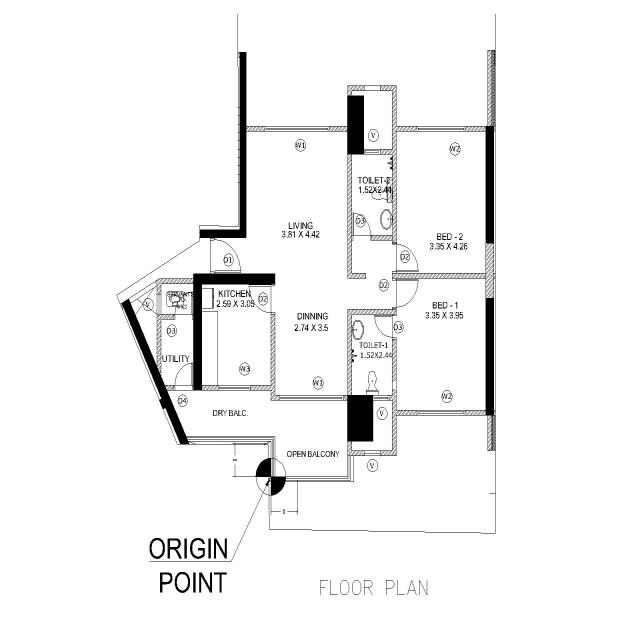Column: (119, 298, 190, 452), (484, 295, 497, 419), (346, 392, 375, 444), (192, 271, 204, 392), (198, 271, 277, 289), (345, 92, 367, 156), (485, 123, 496, 245)
Door: (206, 234, 214, 275), (391, 278, 397, 309), (270, 282, 275, 318), (350, 232, 372, 240), (172, 312, 194, 320), (173, 385, 193, 392), (392, 241, 396, 273), (392, 312, 396, 340)
Ventilator: (155, 292, 163, 316), (363, 448, 381, 458), (372, 394, 390, 402), (364, 148, 381, 156)
Window: (263, 125, 332, 133), (278, 394, 344, 402), (415, 124, 467, 134), (414, 408, 466, 418), (217, 382, 251, 394)
